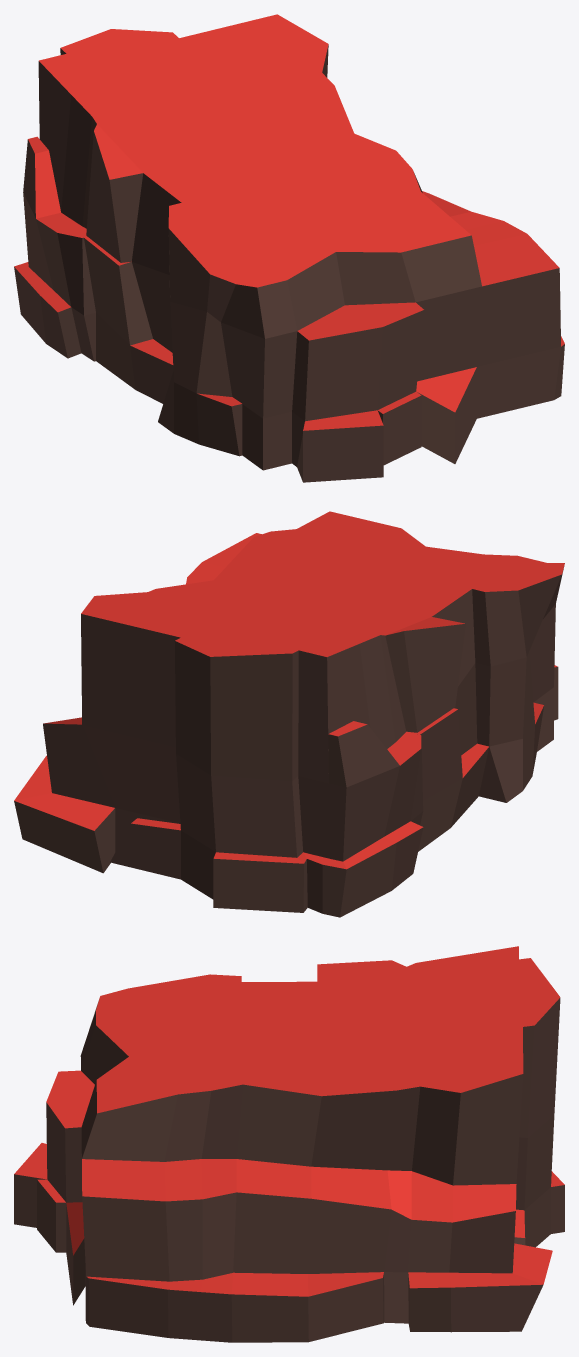
The model's file is Falaise_02.fbx.
3 views of the same model, one above another, from view 1: azimuth 30°, elevation 25°; view 2: azimuth 150°, elevation 25°; view 3: azimuth 270°, elevation 25° (orthographic). The views are drawn at different scales.
Parts seen in each view (by area): view 1: Cliff_02; view 2: Cliff_02; view 3: Cliff_02.
Part boxes in pixels (x1,y1,x2,y2): Cliff_02: (14,14,564,482); Cliff_02: (14,511,564,917); Cliff_02: (14,946,564,1342).
Bounding box in the file's own units: 1297 × 930 × 1701.
